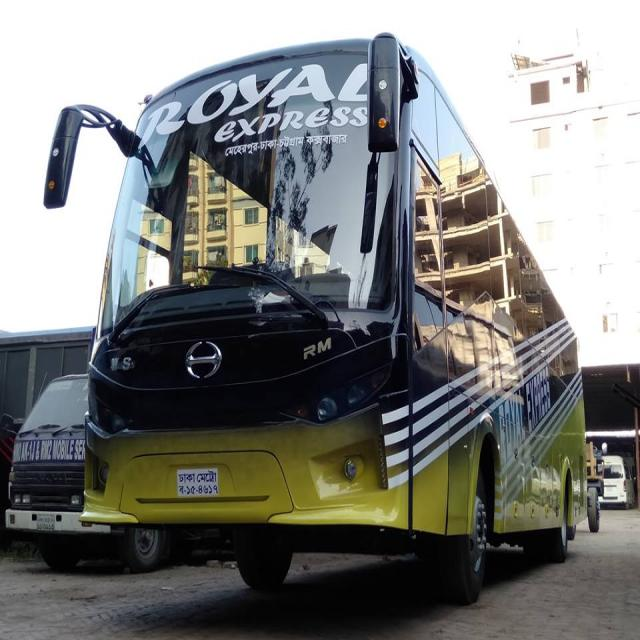bus: (41, 32, 588, 606)
